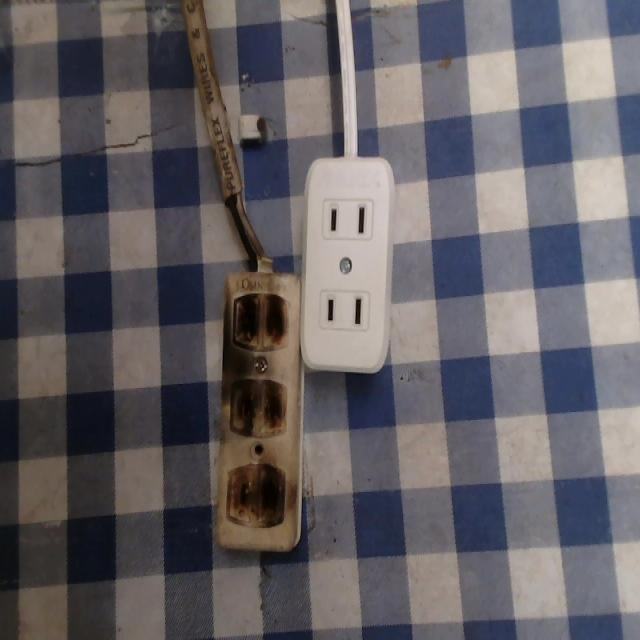-: (223, 456, 290, 531), (226, 373, 288, 438), (229, 291, 290, 353)
